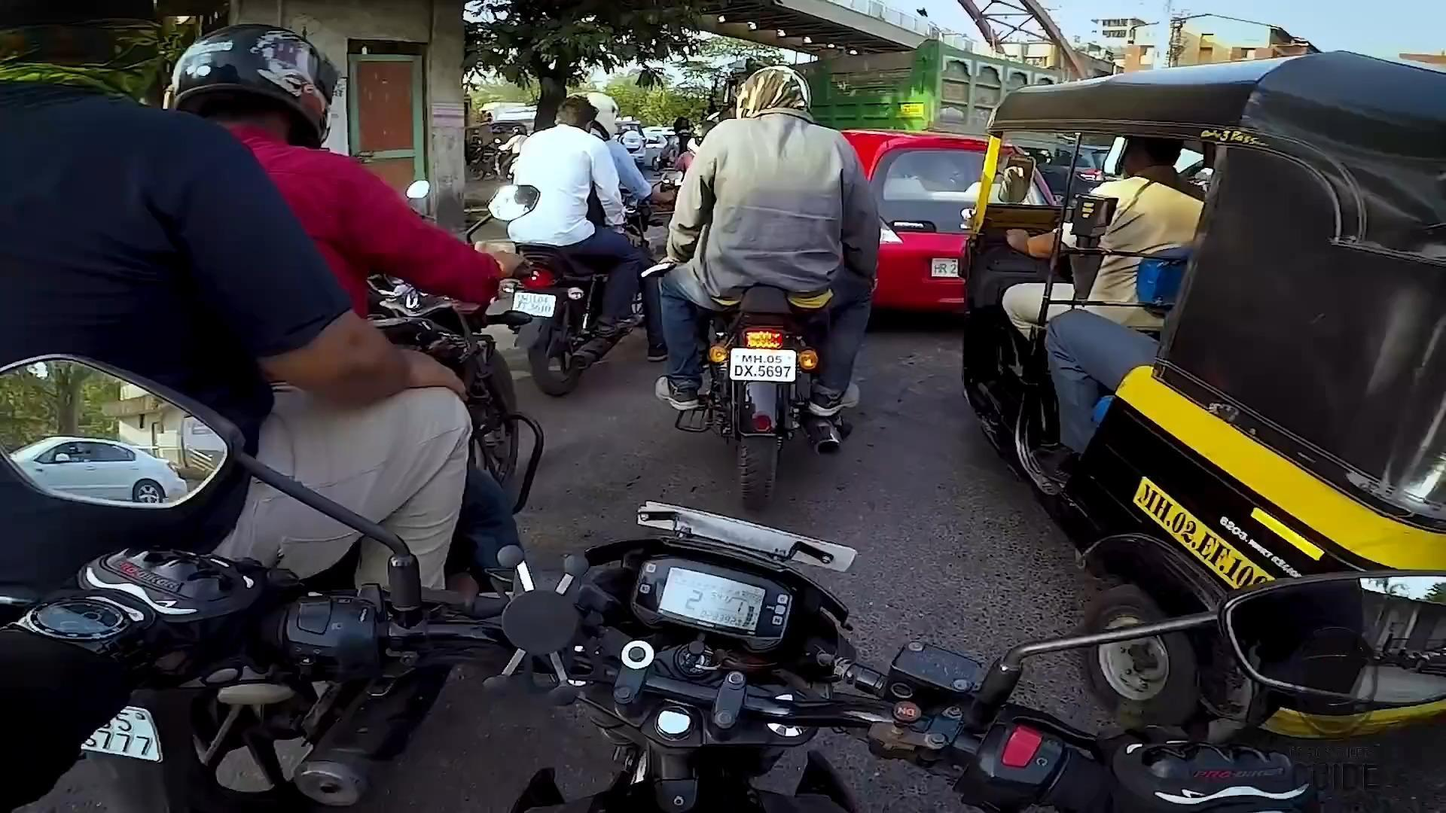Helmet: (163, 11, 349, 150), (574, 80, 625, 145)
bike: (661, 213, 866, 501), (491, 173, 681, 395)
no-helmet: (729, 55, 817, 140), (548, 88, 602, 142)
number-plate: (728, 345, 801, 383)
rider: (0, 2, 470, 695), (160, 9, 524, 375), (658, 56, 878, 418), (512, 92, 636, 336), (574, 88, 668, 223)
